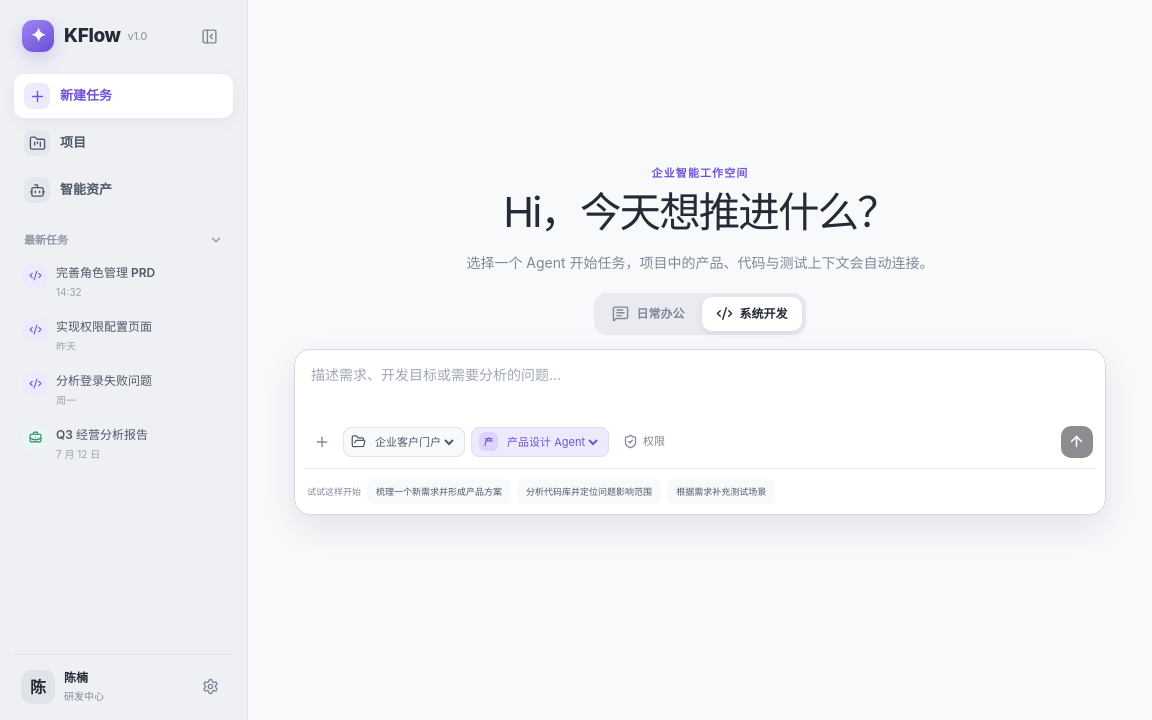
Test: enterprise AI client demo › collapses the left navigation and remembers the state
The width and height of the screenshot is (1152, 720).
Click the button named "收起左侧导航".
click(209, 36)  # box [193,20,225,52]
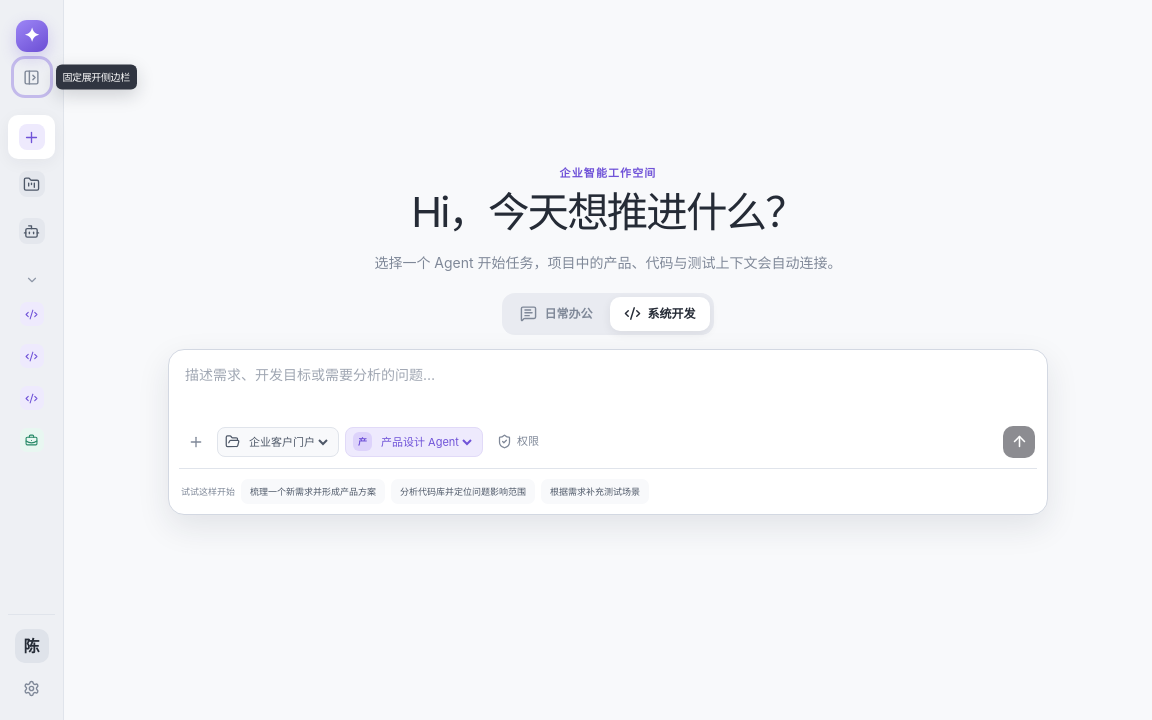
Expected: the navigation bar named "主导航" has class "collapsed", [0,0,64,719]
